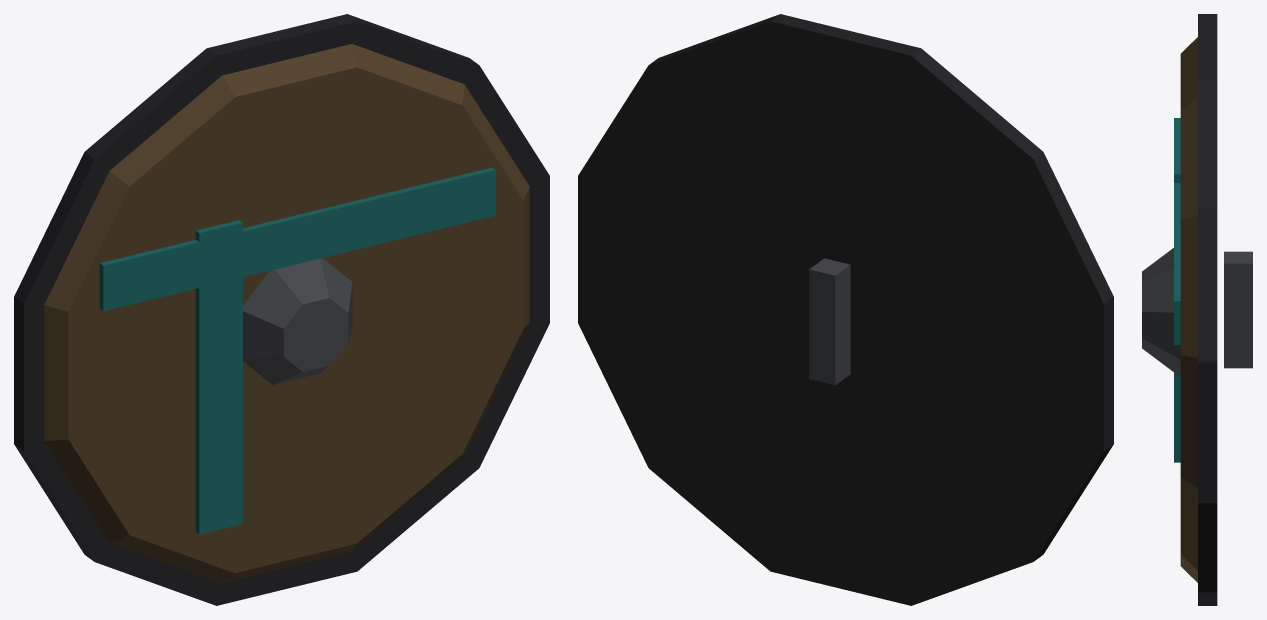
Rendered from wood_round_shield.glb.
3 views of the same model, side by side, from view 1: azimuth 30°, elevation 25°; view 2: azimuth 150°, elevation 25°; view 3: azimuth 270°, elevation 25° (orthographic). The views are drawn at different scales.
Visible parts, largest first — view 1: wood_round_shield; view 2: wood_round_shield; view 3: wood_round_shield.
Part boxes in pixels (x1,y1,x2,y2): wood_round_shield: (14,14,549,605); wood_round_shield: (578,14,1113,605); wood_round_shield: (1142,14,1252,605).
Size of the model in its own units: 0.6027 by 0.6027 by 0.115.
